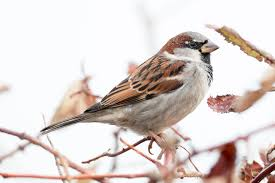hsparrow: (30, 28, 222, 150)
